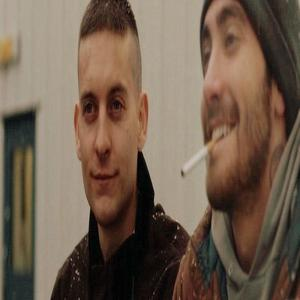cigarette: (179, 139, 218, 178)
